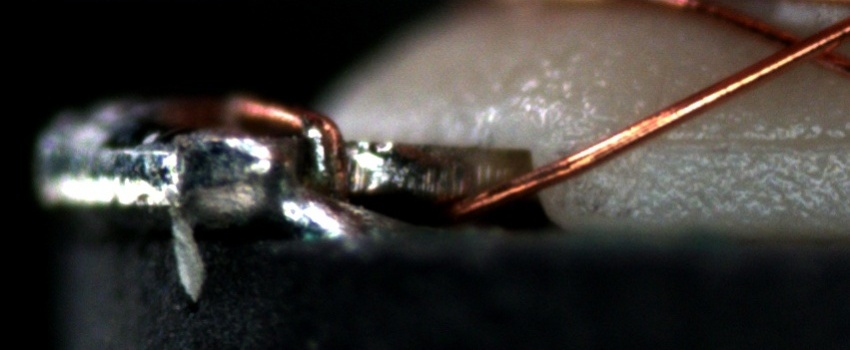CL: (759, 18, 844, 72)
DL: (664, 111, 849, 167)
TE: (225, 95, 347, 204)
